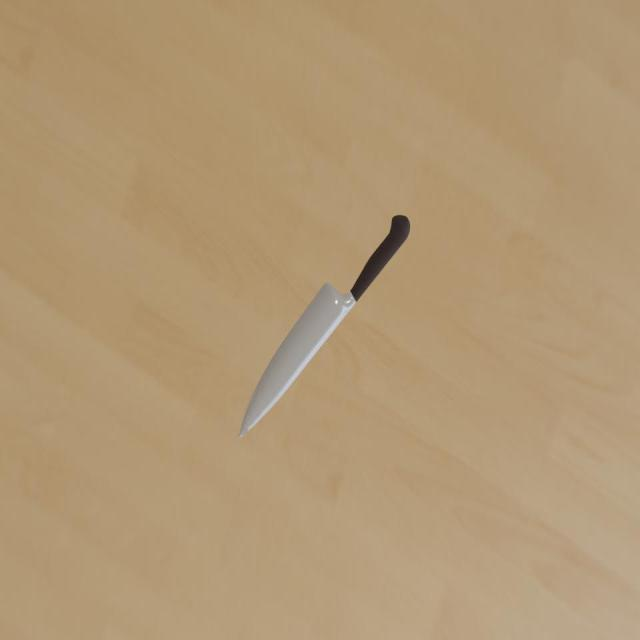knife: (349, 215, 410, 302)
